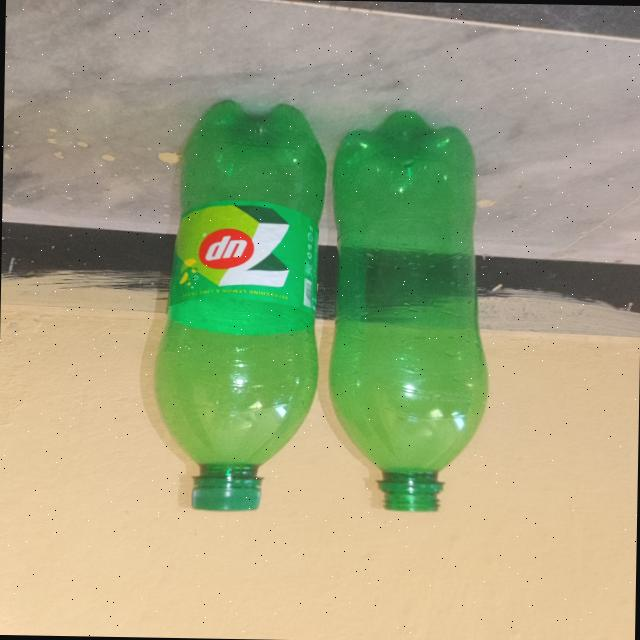bottle: (134, 80, 340, 532), (317, 100, 508, 524)
cap: (190, 471, 268, 518)
label: (171, 190, 318, 324)
